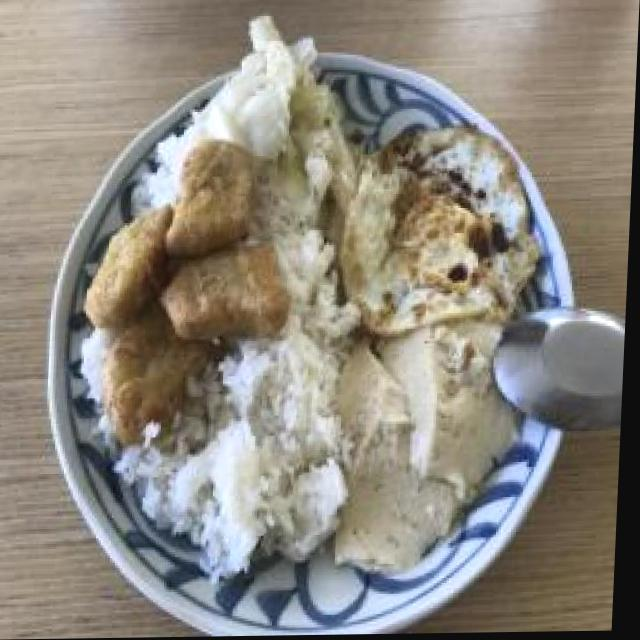chicken_nuggets: (82, 144, 298, 450)
chinese_sausage: (214, 24, 367, 178)
fried_eggs: (346, 126, 548, 336)
rice: (187, 341, 363, 571)
